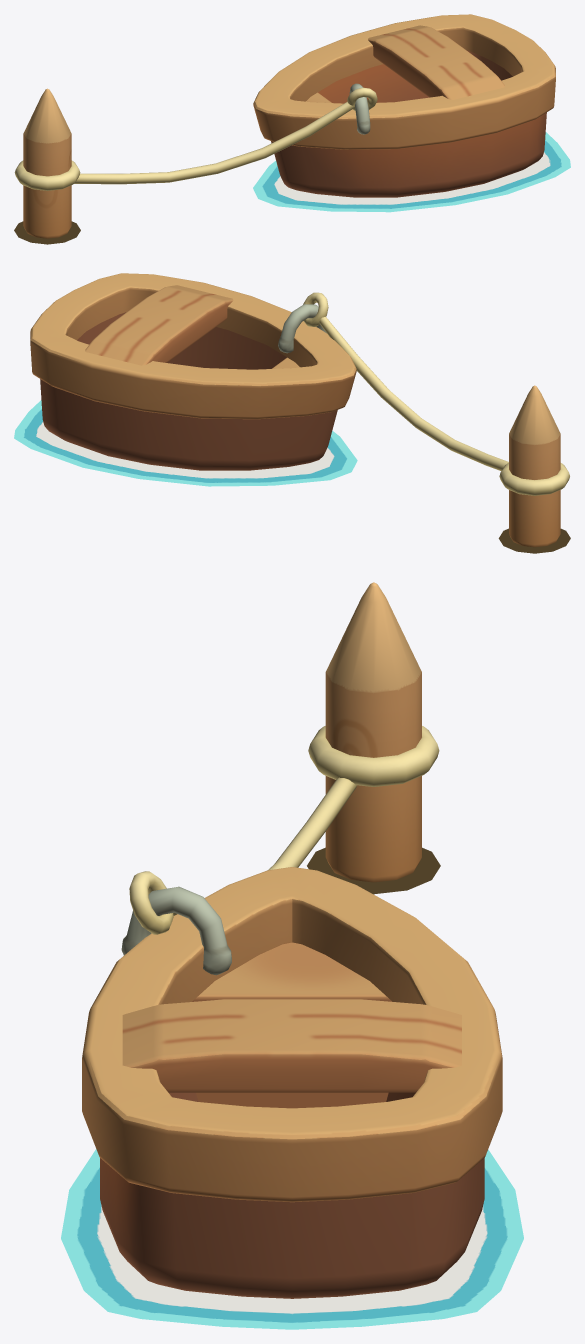
The model's file is Boat.fbx.
3 renders of one model, top to bottom at view 1: azimuth 30°, elevation 25°; view 2: azimuth 150°, elevation 25°; view 3: azimuth 270°, elevation 25°, orthographic. The views are drawn at different scales.
Visible parts, largest first — view 1: polySurface8, polySurface4, polySurface1, polySurface10; view 2: polySurface8, polySurface4, polySurface1, polySurface10; view 3: polySurface8, polySurface4, polySurface1, polySurface10.
Part boxes in pixels (bbox=[...]): polySurface8: bbox=[253, 14, 570, 212]; polySurface4: bbox=[23, 88, 71, 238]; polySurface1: bbox=[14, 87, 377, 190]; polySurface10: bbox=[14, 221, 80, 244]; polySurface8: bbox=[14, 273, 357, 486]; polySurface4: bbox=[509, 385, 560, 547]; polySurface1: bbox=[303, 292, 569, 495]; polySurface10: bbox=[498, 528, 570, 553]; polySurface8: bbox=[61, 867, 523, 1329]; polySurface4: bbox=[325, 582, 421, 882]; polySurface1: bbox=[129, 726, 439, 934]; polySurface10: bbox=[307, 847, 440, 894].
Bounding box in the file's own units: 595 × 160 × 237.
